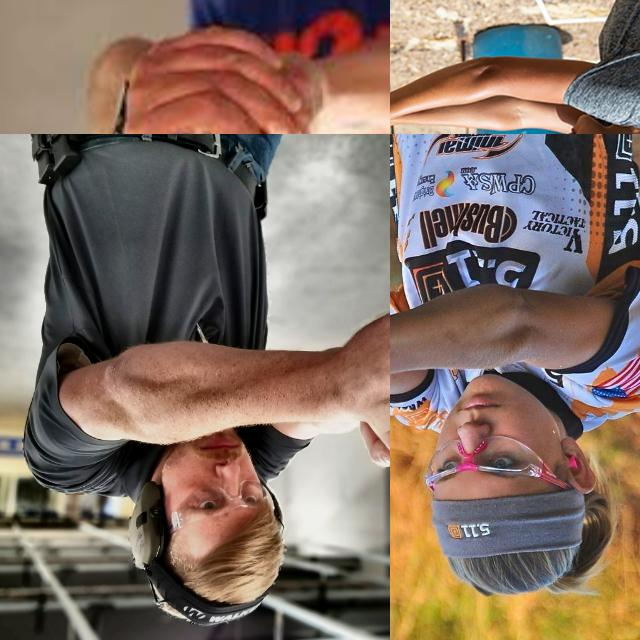handgun: (390, 261, 470, 446), (390, 81, 444, 134)
